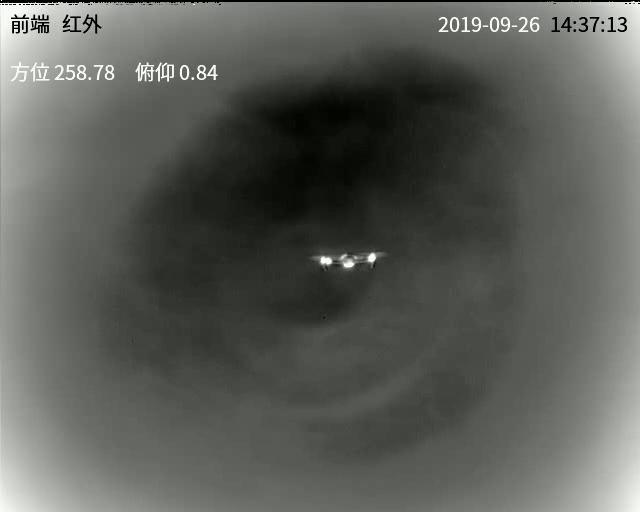DRONE: (315, 248, 380, 275)
